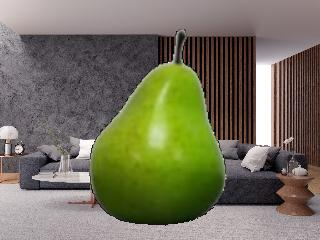pear: (80, 25, 230, 230)
